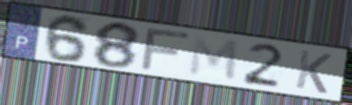2: (242, 42, 286, 90)
6: (43, 12, 92, 64)
8: (92, 20, 143, 70)
F: (138, 27, 194, 72)
K: (293, 48, 335, 96)
M: (187, 33, 241, 83)
